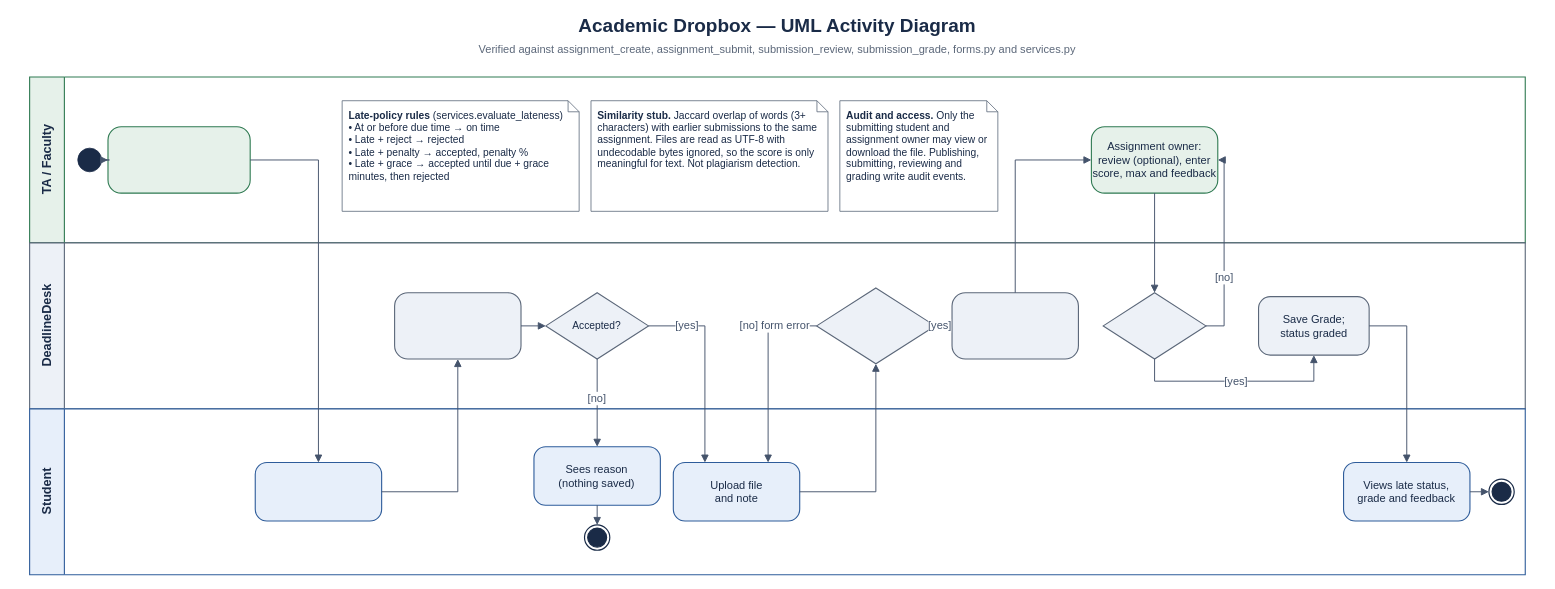
Some shapes in this 1555 by 589 pixel diagram are drawn without their labels. The shapes that lost their labels are listed below. From the top down, each one's centre as x and y in pixels, then its label:
At [178,159]: "Publish assignment: due time, late policy, grace minutes or penalty %".
At [457,325]: "Reject a duplicate; evaluate late policy at server time".
At [875,325]: "≤ 5 MB and allowed type?".
At [1015,325]: "Compute similarity stub; save Submission with late status, penalty %".
At [1154,325]: "Score ≤ max score?".
At [318,491]: "Open assignment, choose Submit work".
